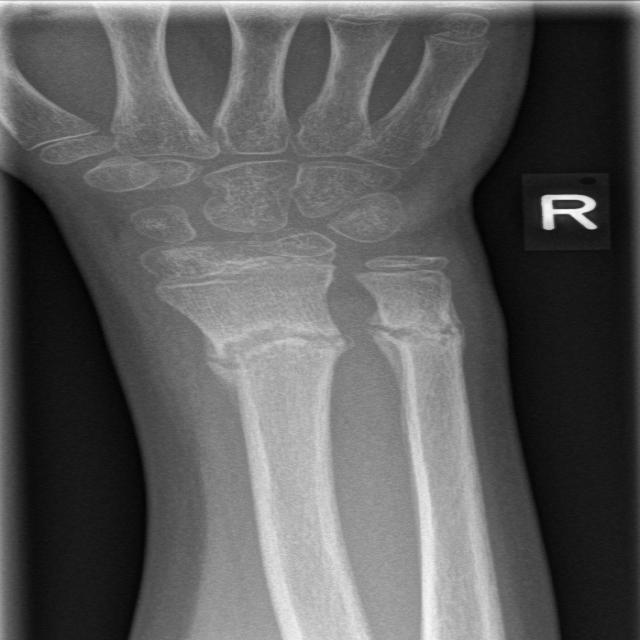radius fracture: (172, 297, 370, 448)
ulna fracture: (355, 286, 479, 415)
